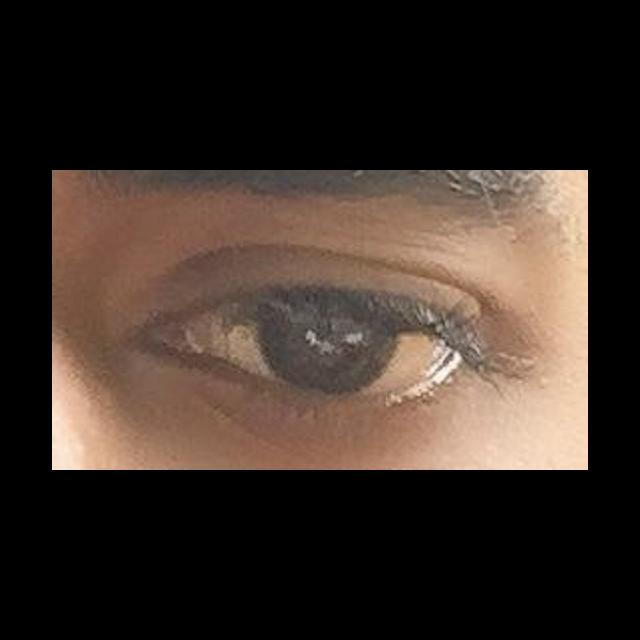eye: (188, 301, 445, 396)
iris: (262, 307, 396, 393)
